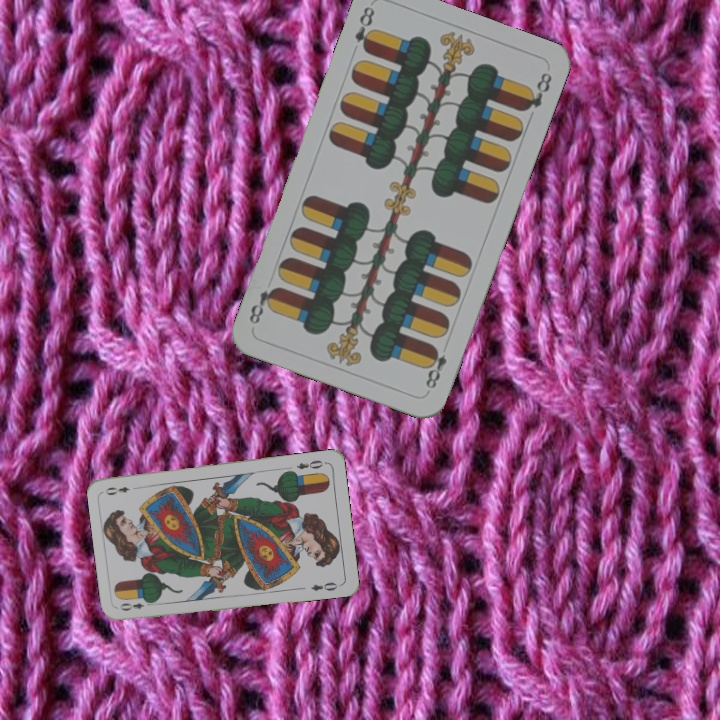E8: (350, 2, 378, 56), (421, 342, 450, 392)
EO: (116, 596, 156, 613), (293, 456, 325, 472)
